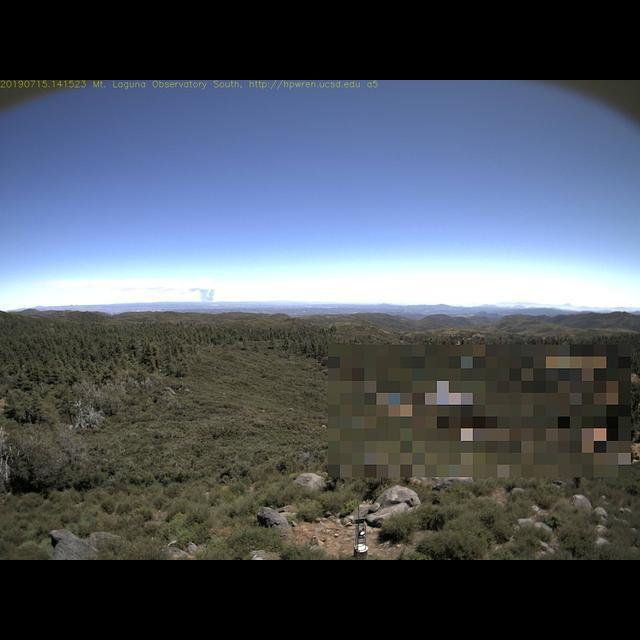Smoke: (184, 281, 217, 309)
